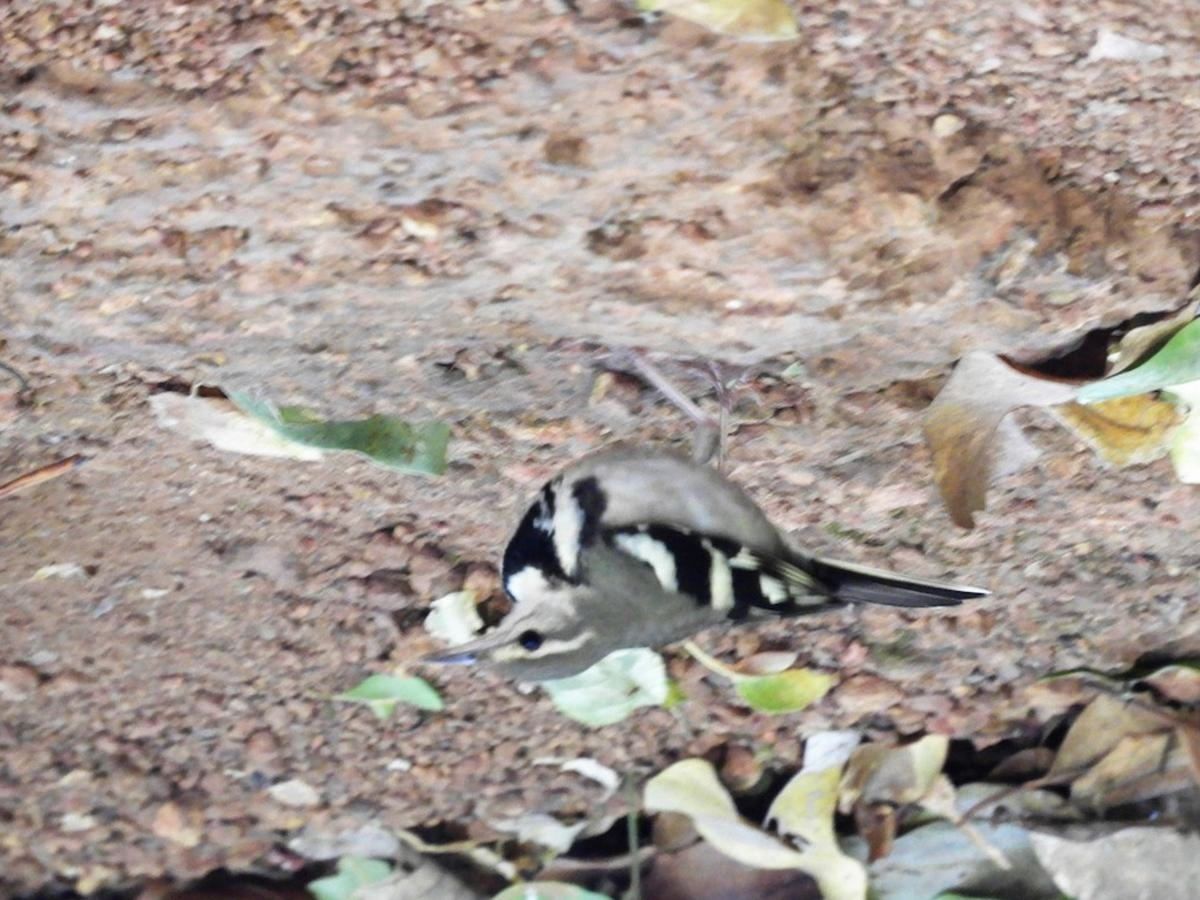wagtail: (440, 408, 1023, 707)
